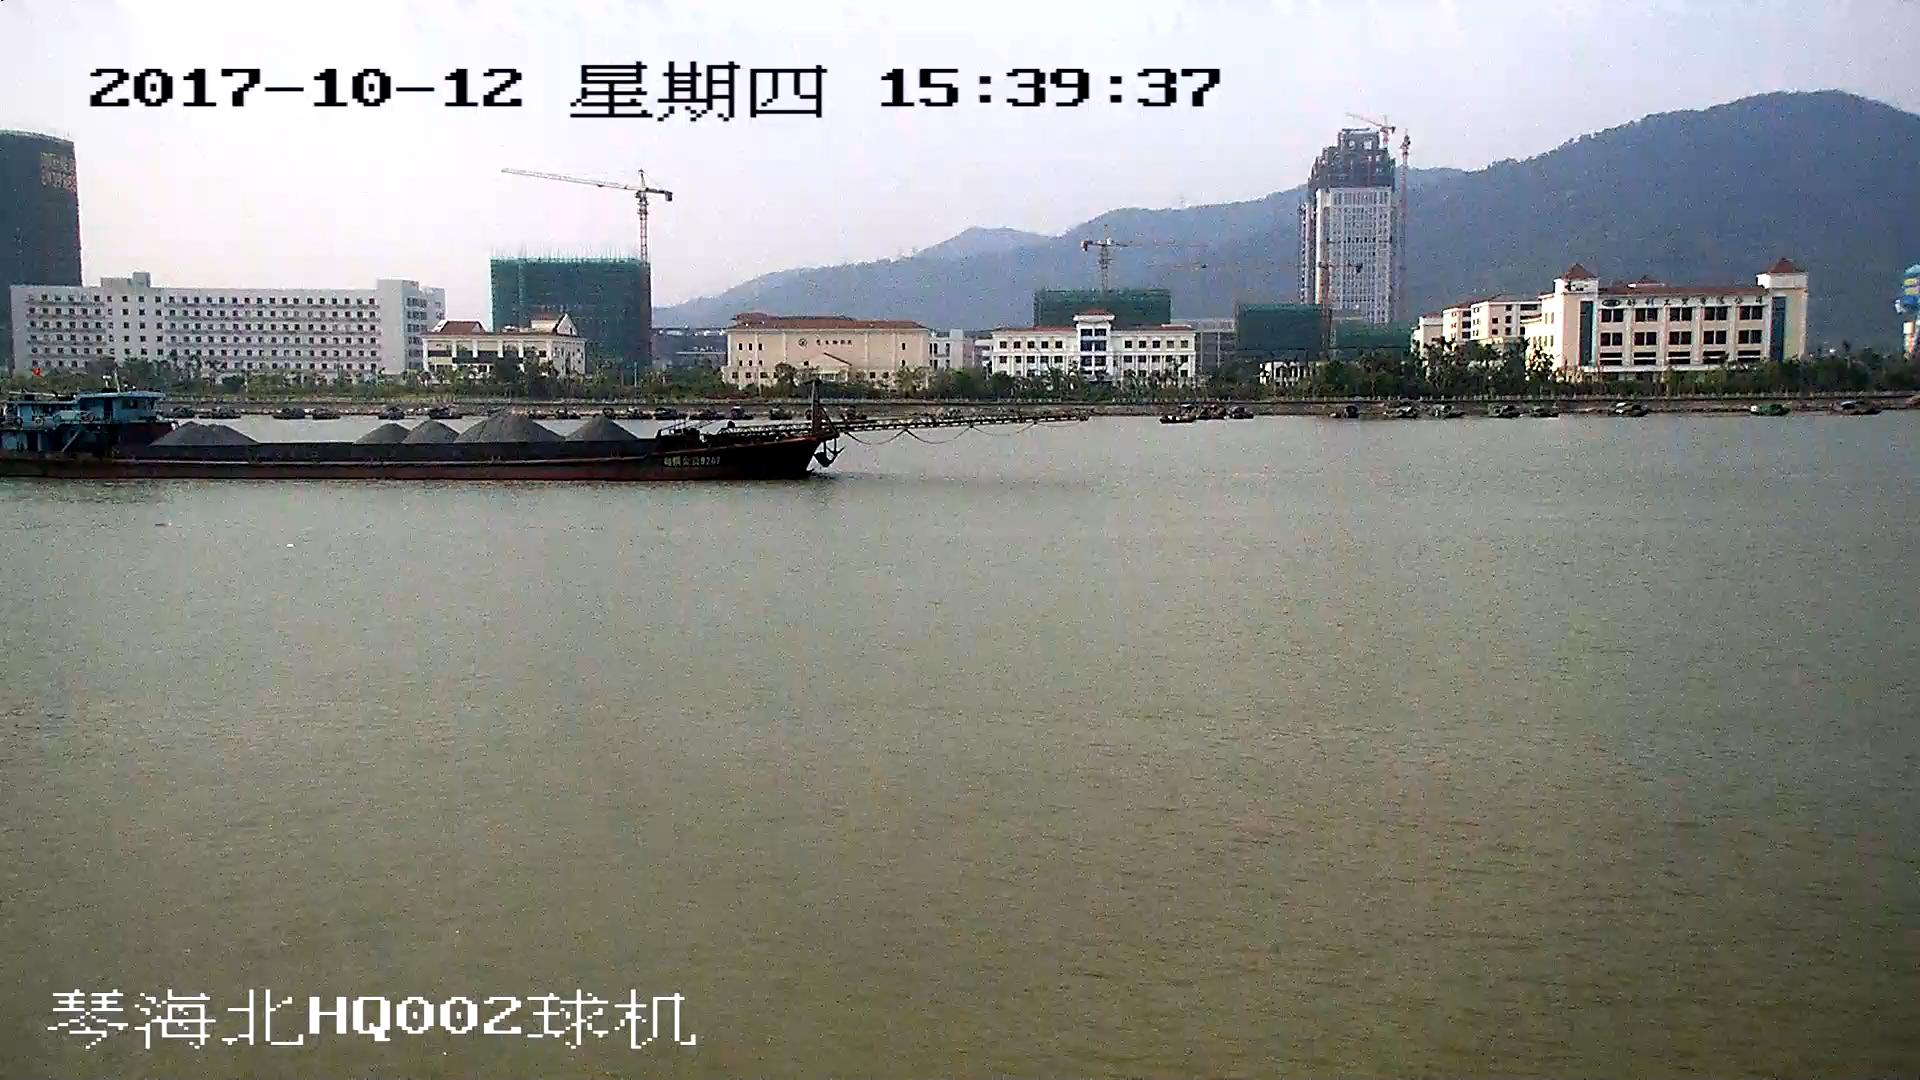ore carrier: (1, 376, 1056, 485)
